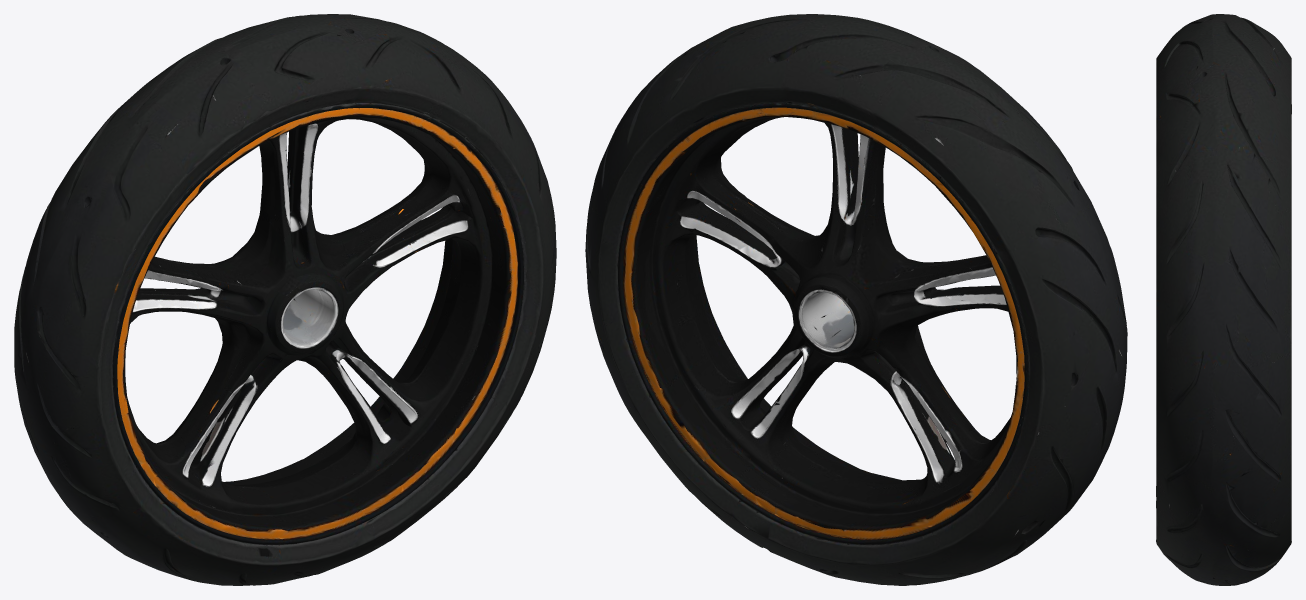
Rendered from Meshy_AI_Black_Motorcycle_Wheel_with_Orange_Rim_20261118_tex_41459tris.glb.
The picture shows the model from 3 angles, left to right: view 1: azimuth 30°, elevation 25°; view 2: azimuth 150°, elevation 25°; view 3: azimuth 270°, elevation 25°; orthographic projection. The views are drawn at different scales.
Parts seen in each view (by area): view 1: Mesh_0; view 2: Mesh_0; view 3: Mesh_0.
Boxes of the visible parts, x1,y1,x2,y2 form: Mesh_0: (14, 14, 556, 585); Mesh_0: (585, 14, 1127, 585); Mesh_0: (1156, 14, 1291, 585).
Size of the model in its own units: 190 by 190 by 45.2.
1 material, 1 textured.
